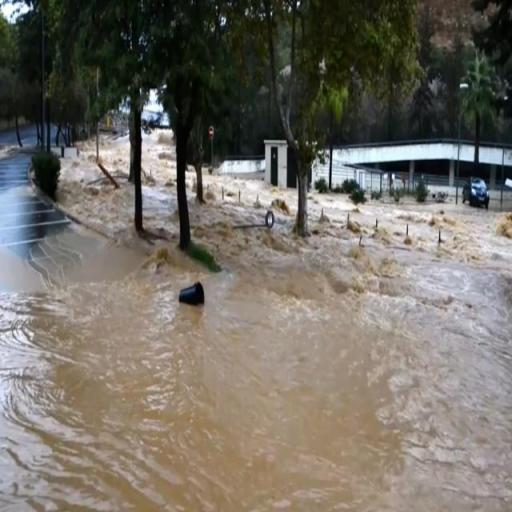flood: (0, 130, 512, 512), (103, 138, 127, 172)
house: (338, 135, 512, 204)
